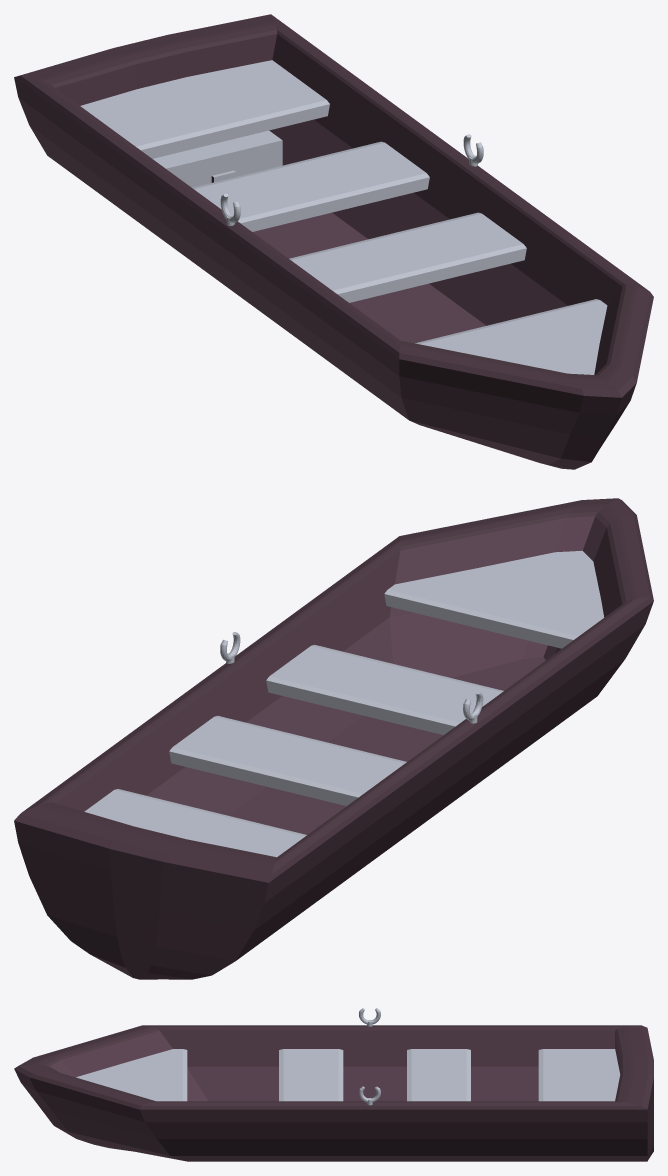
The model's file is Boat_Row.fbx.
3 renders of one model, top to bottom at view 1: azimuth 30°, elevation 25°; view 2: azimuth 150°, elevation 25°; view 3: azimuth 270°, elevation 25°, orthographic. The views are drawn at different scales.
Parts seen in each view (by area): view 1: Cube; view 2: Cube; view 3: Cube.
Boxes of the visible parts, left/top/right/bottom form: Cube: left=14, top=14, right=653, bottom=469; Cube: left=14, top=498, right=653, bottom=979; Cube: left=14, top=1008, right=653, bottom=1161.
Size of the model in its own units: 215 by 125 by 710.
